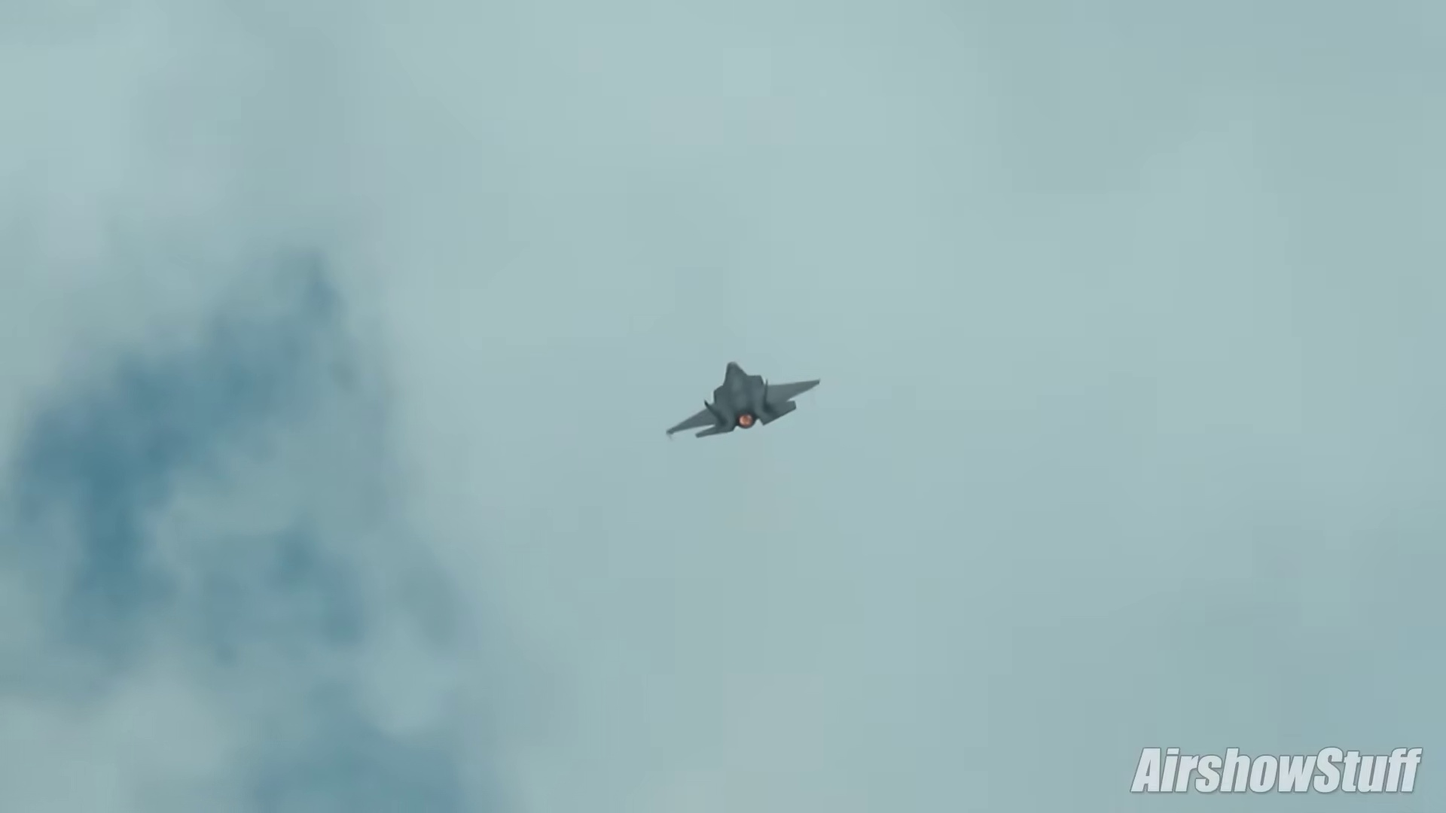F35: (663, 354, 825, 444)
